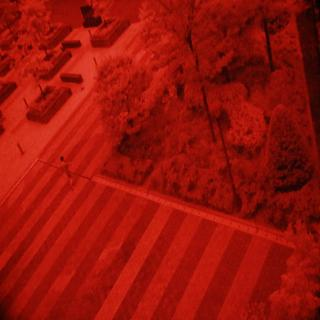person: (54, 149, 77, 189)
